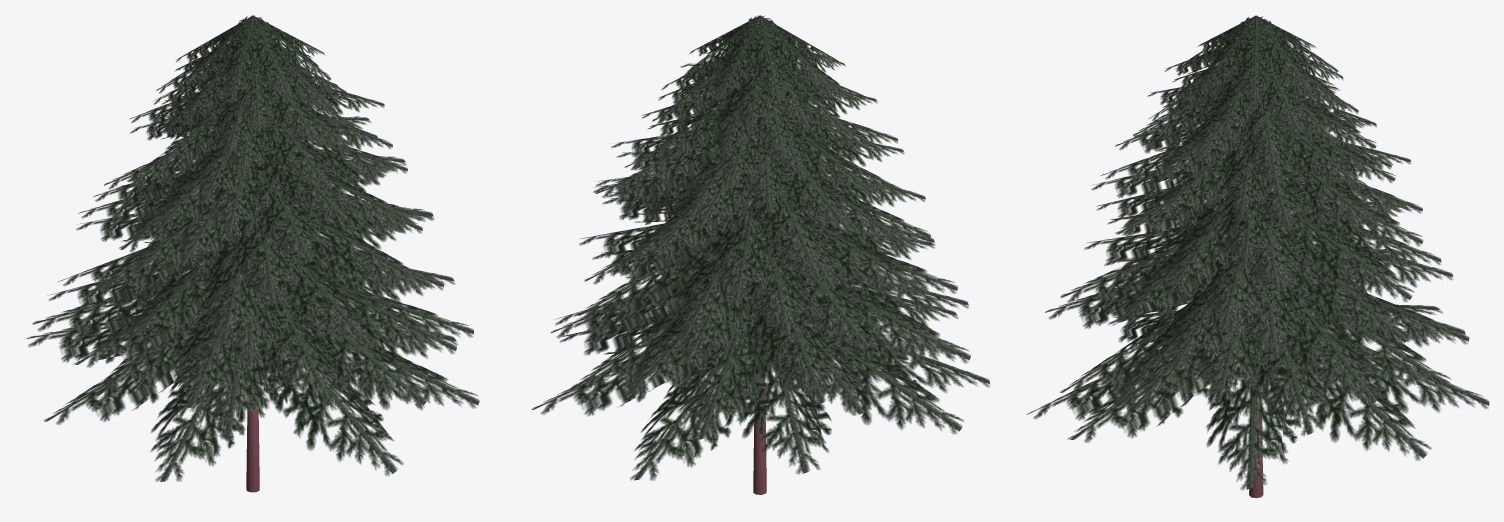
Rendered from treepine2.glb.
3 views of the same model, side by side, from view 1: azimuth 30°, elevation 25°; view 2: azimuth 150°, elevation 25°; view 3: azimuth 270°, elevation 25° (orthographic).
Visible parts, largest first — view 1: Branch, Trunk; view 2: Branch, Trunk; view 3: Branch, Trunk.
Boxes of the visible parts, x1,y1,x2,y2 form: Branch: (26,15,479,481); Trunk: (246,343,259,492); Branch: (531,15,990,480); Trunk: (753,141,766,494); Branch: (1026,15,1489,490); Trunk: (1249,130,1263,498).
Bounding box in the file's own units: 15.54 × 17.39 × 15.29.
2 materials, 1 textured.
